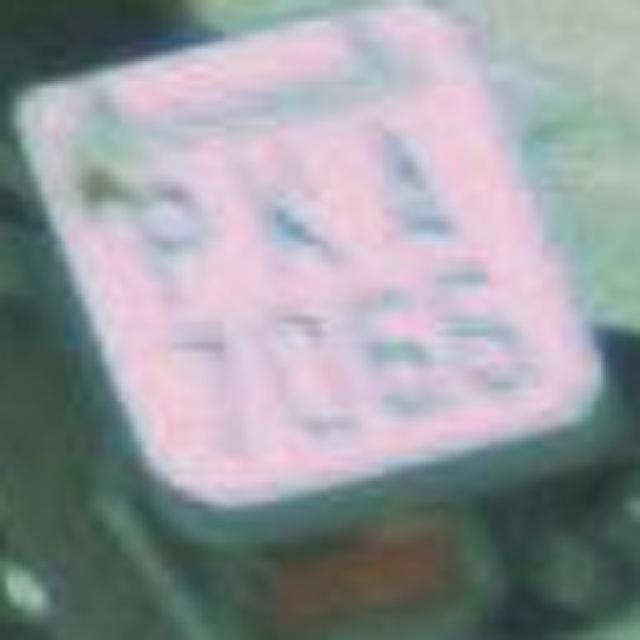0: (228, 284, 388, 451)
5: (409, 251, 556, 404), (331, 272, 464, 420)
7: (144, 309, 288, 476)
P: (84, 152, 231, 308)
